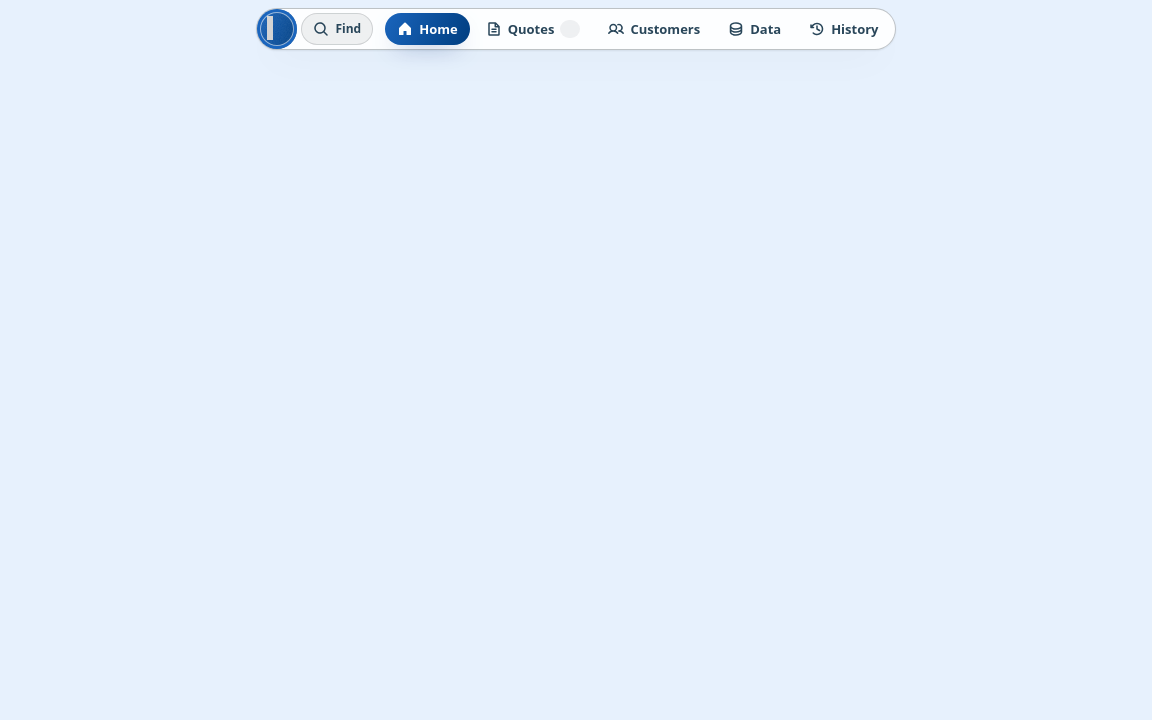
Scenario: the finder › goes where the row says, and shuts
Step 1. Type keys "{Control>}k{/Control}"
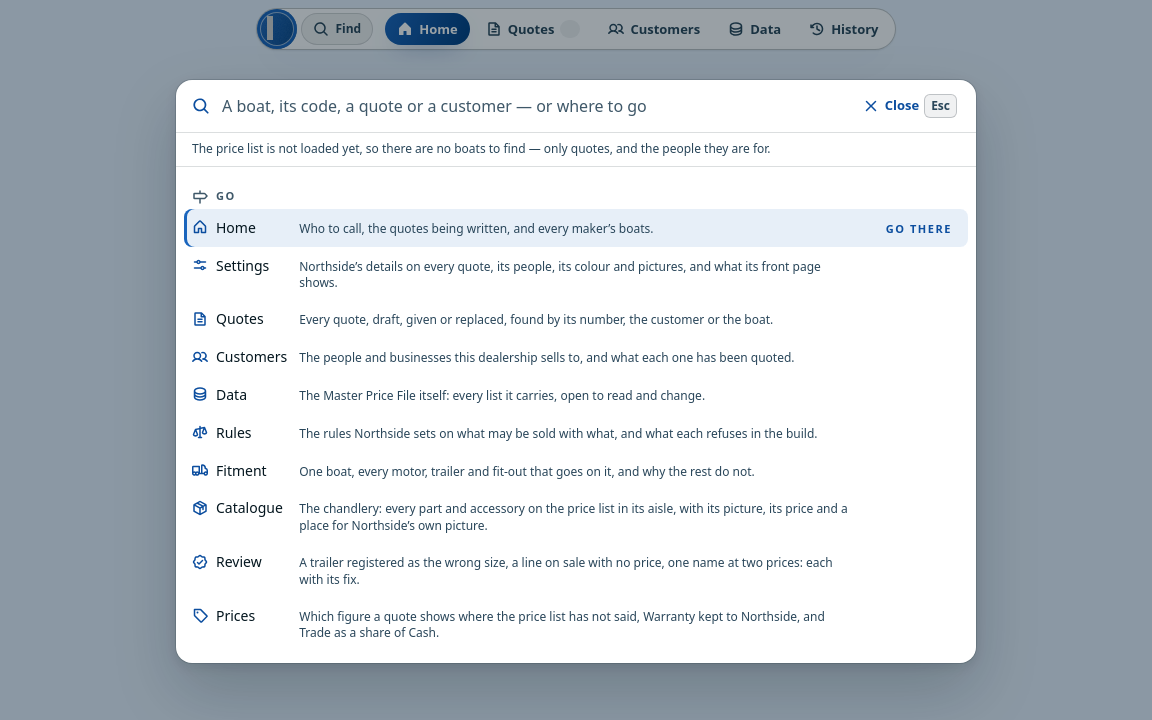
Step 2. Click the option "Customers" → [493, 357], box [192,347,794,366]
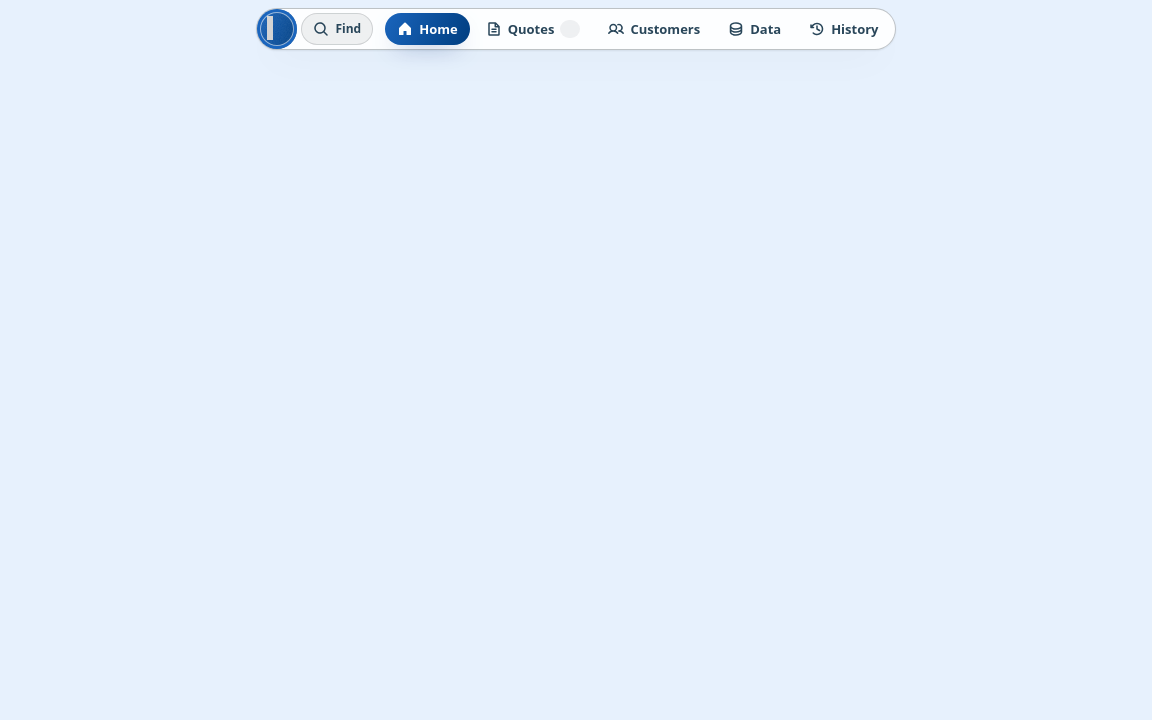
Now the dialog is gone
